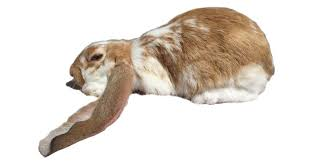bunny: (27, 3, 280, 157)
